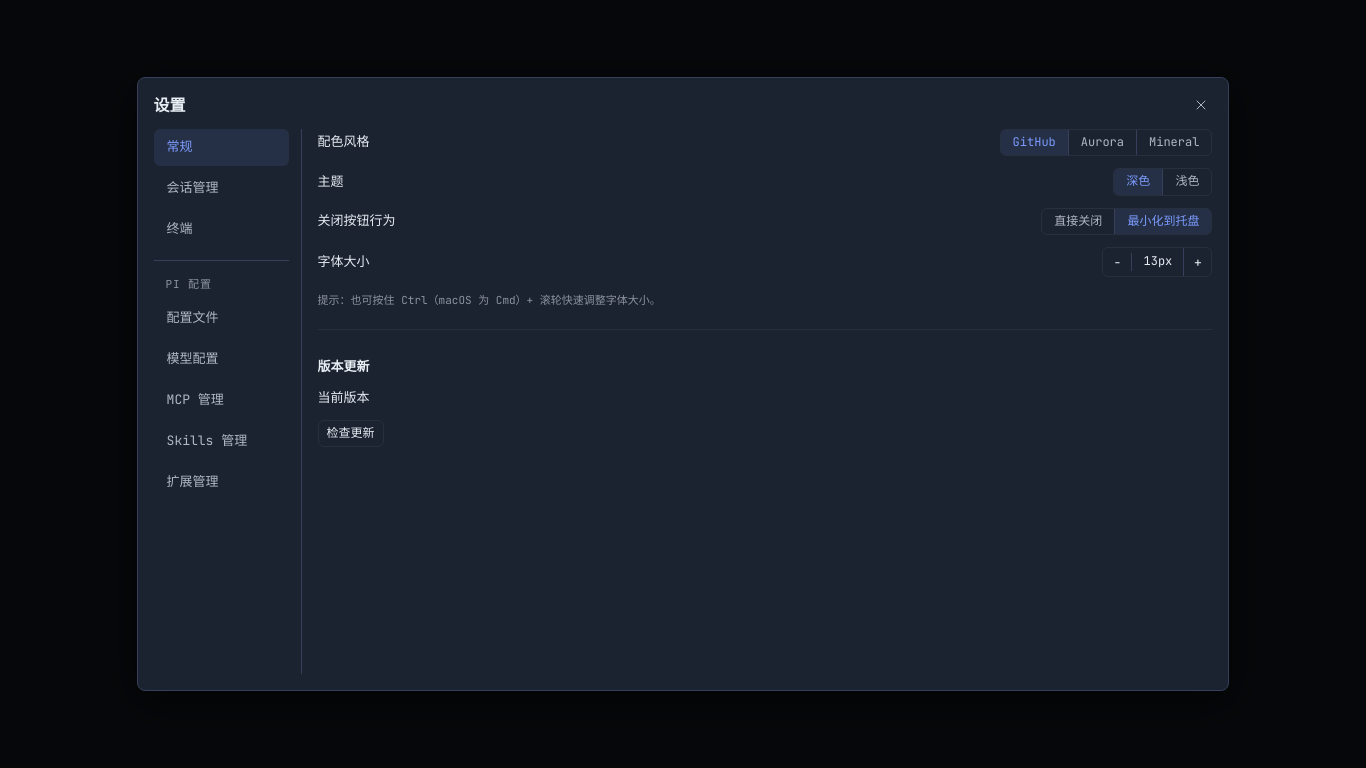
Scenario: SettingsPanel 终端设置 › customGlyphs / gpuAcceleration 设置 › GPU 加速下拉存在，默认 auto
Click the button "终端": click(221, 229) left=154, top=211, right=289, bottom=248
(page scrolled)
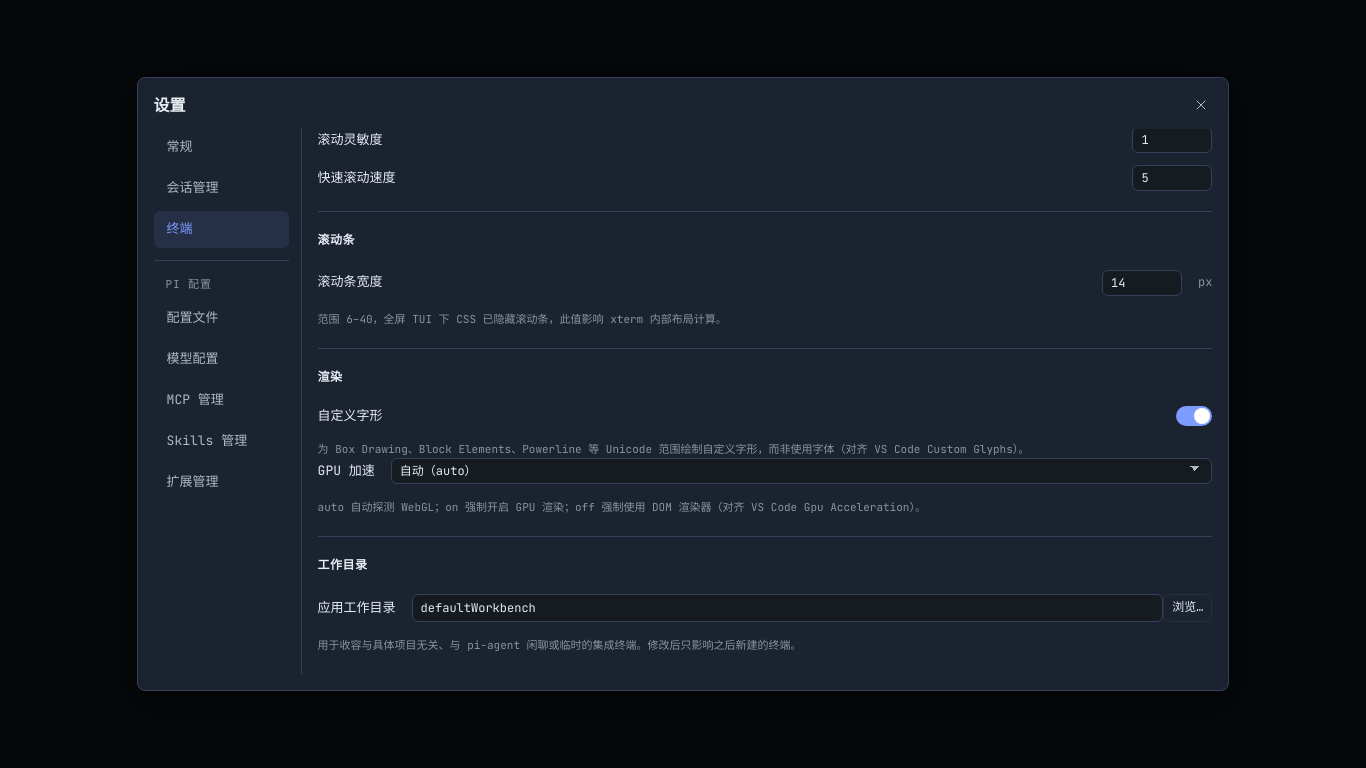
Expected: the dropdown named "GPU 加速" shows "自动（auto）", left=391, top=458, right=1212, bottom=484
